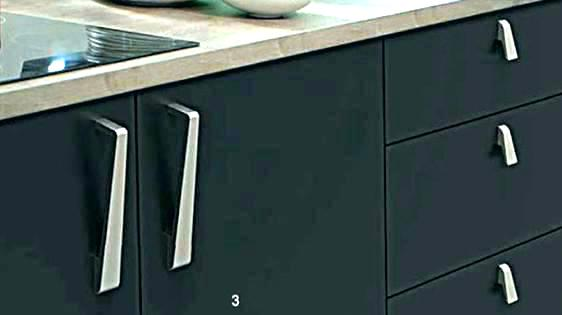cabinet door: (141, 84, 381, 315), (4, 117, 133, 308), (397, 115, 558, 229), (388, 35, 562, 103), (400, 246, 562, 312)
handle: (145, 98, 211, 270), (83, 119, 135, 294), (493, 262, 525, 310), (490, 123, 520, 167), (492, 18, 519, 62)
